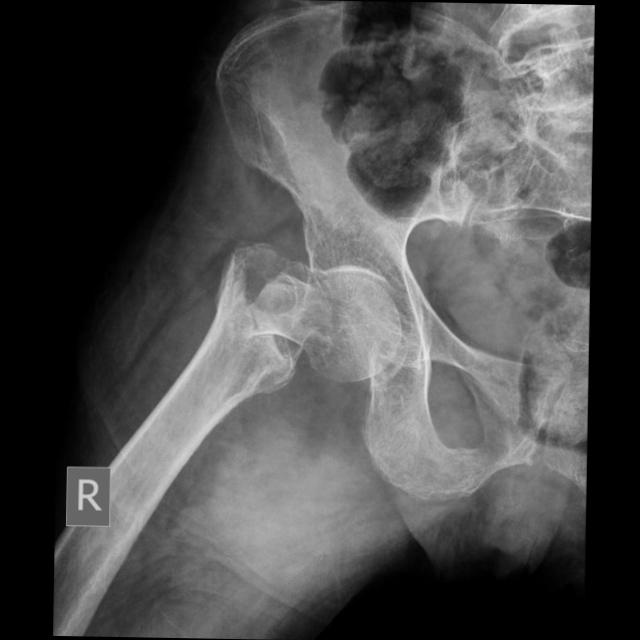right-neck: (147, 239, 308, 456), (244, 270, 402, 383)
